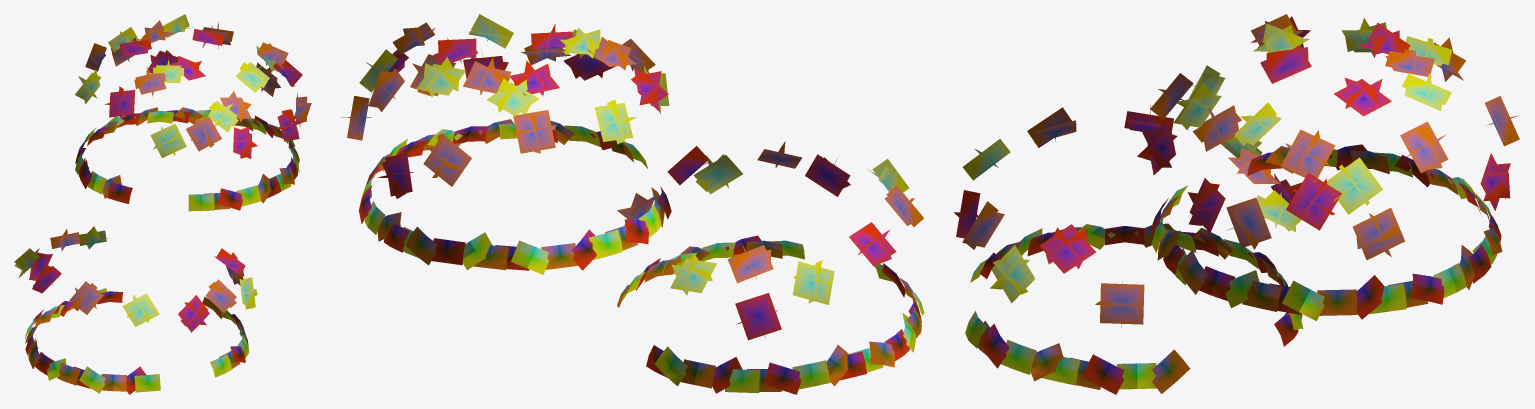
File: GrumpHutDouble02_Leaves_broken.dae
3 renders of one model, left to right at view 1: azimuth 30°, elevation 25°; view 2: azimuth 150°, elevation 25°; view 3: azimuth 270°, elevation 25°, orthographic. The views are drawn at different scales.
Parts seen in each view (by area): view 1: polySurface2537; view 2: polySurface2537; view 3: polySurface2537.
Boxes of the visible parts, bbox=[...] form: polySurface2537: bbox=[14, 14, 311, 394]; polySurface2537: bbox=[341, 14, 924, 394]; polySurface2537: bbox=[954, 14, 1519, 394].
Bounding box in the file's own units: 75.78 × 53.08 × 75.38.
